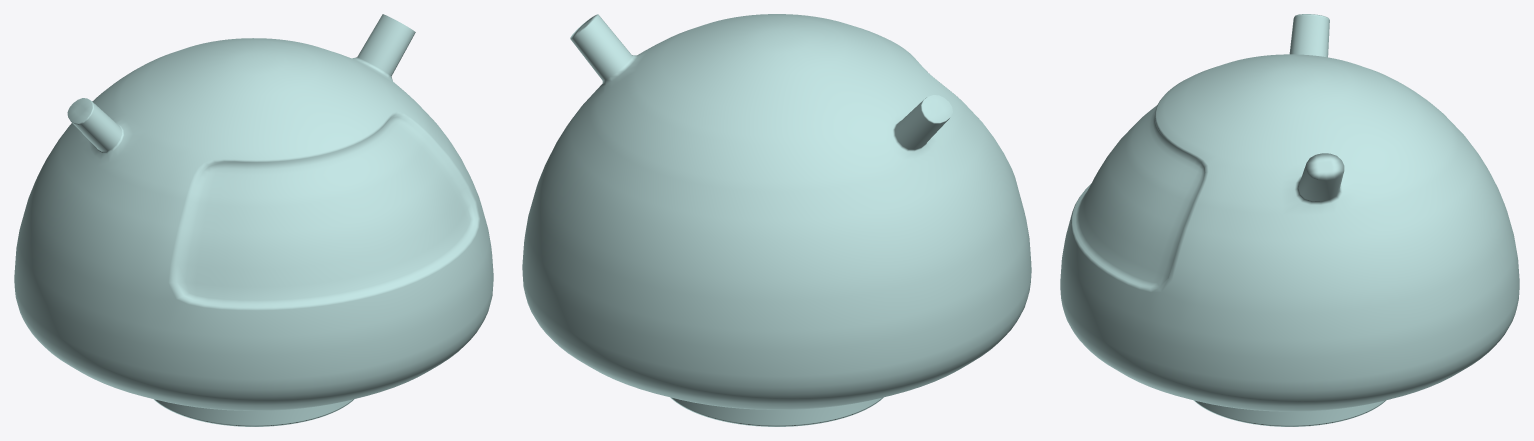
The model's file is head_sphere.fbx.
3 views of the same model, side by side, from view 1: azimuth 30°, elevation 25°; view 2: azimuth 150°, elevation 25°; view 3: azimuth 270°, elevation 25° (orthographic). The views are drawn at different scales.
Visible parts, largest first — view 1: robot_head3; view 2: robot_head3; view 3: robot_head3.
Part boxes in pixels (x1,y1,x2,y2): robot_head3: (14,14,493,426); robot_head3: (522,14,1031,426); robot_head3: (1060,14,1519,426).
Bounding box in the file's own units: 10.92 × 8.27 × 10.92.
